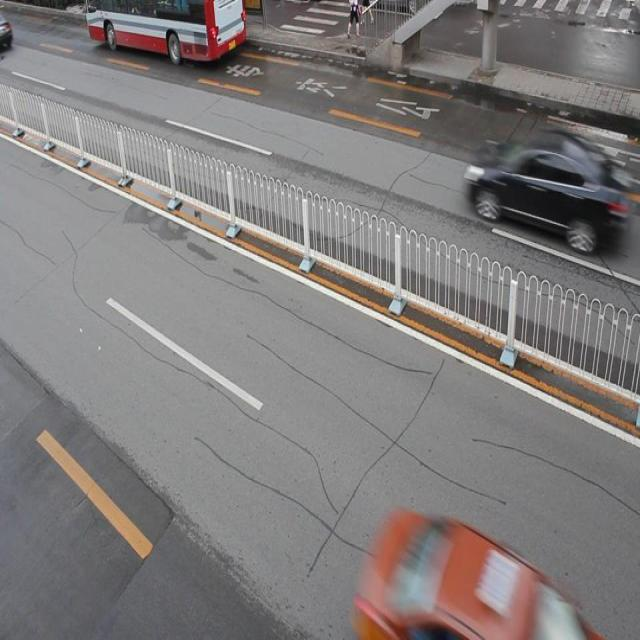car: (362, 509, 592, 640), (469, 130, 612, 248)
van: (88, 1, 247, 64)
